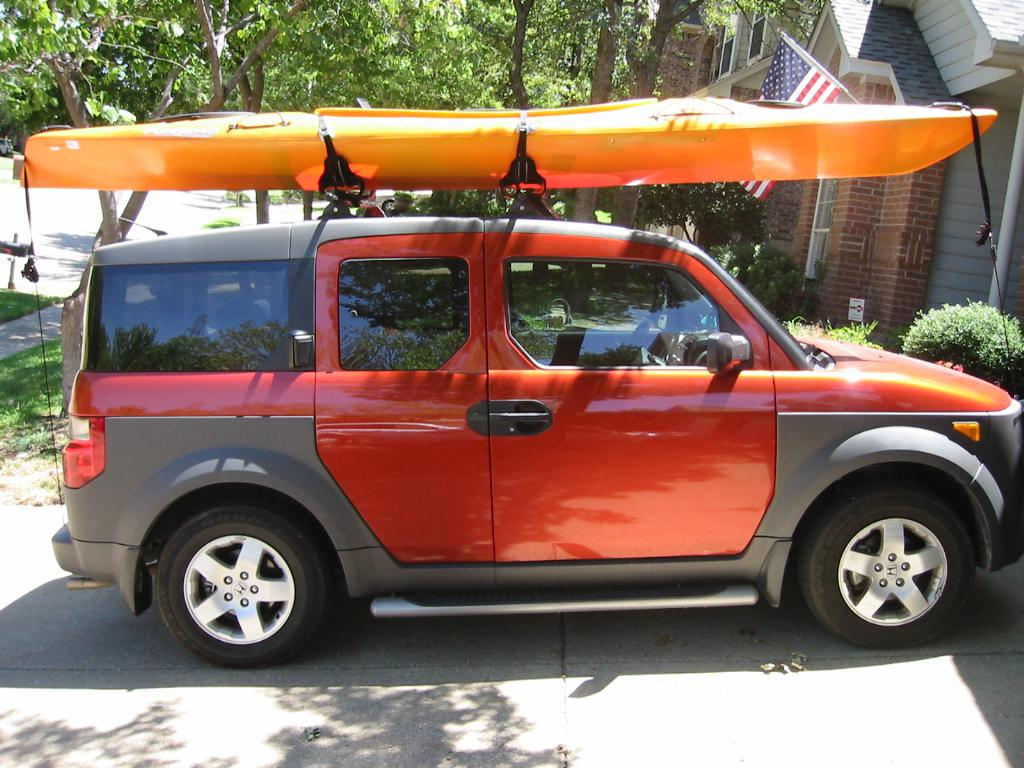Tree: (0, 0, 828, 421)
